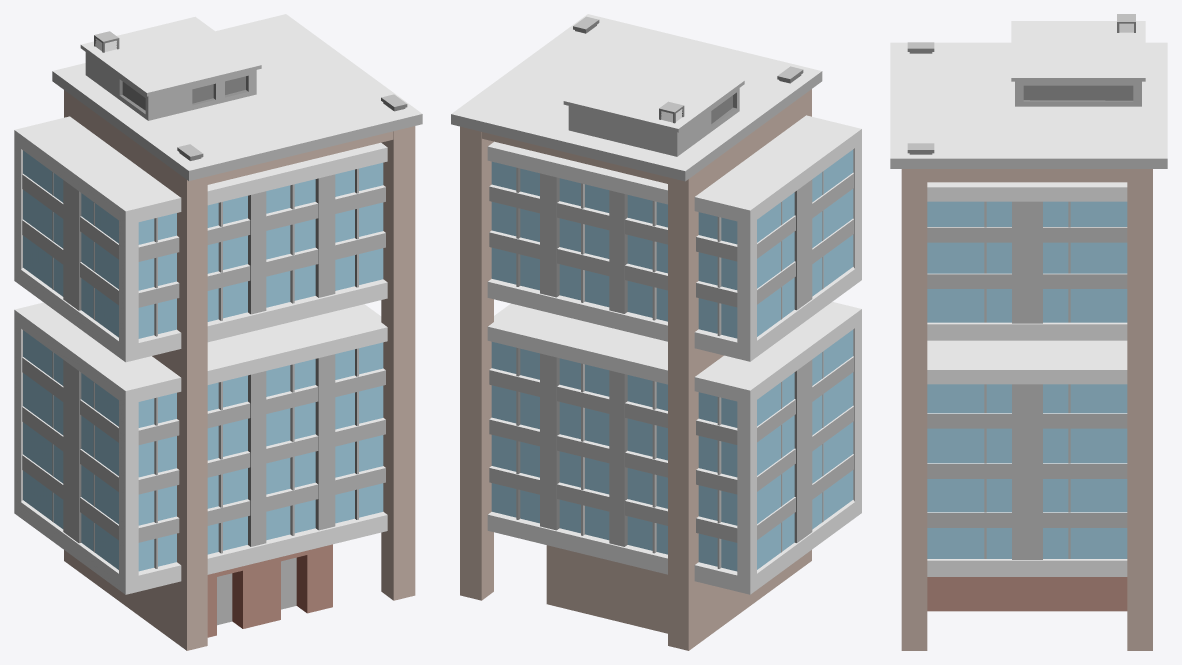
The model's file is house_high_006.glb.
3 renders of one model, left to right at view 1: azimuth 30°, elevation 25°; view 2: azimuth 150°, elevation 25°; view 3: azimuth 270°, elevation 25°, orthographic.
Visible parts, largest first — view 1: house_high_006; view 2: house_high_006; view 3: house_high_006.
Boxes of the visible parts, box(x1,y1,x2,y2) form: house_high_006: box(14, 14, 422, 650); house_high_006: box(451, 14, 861, 650); house_high_006: box(890, 14, 1167, 650).
Bounding box in the file's own units: 14.25 × 25.13 × 11.81.
1 material, 1 textured.
